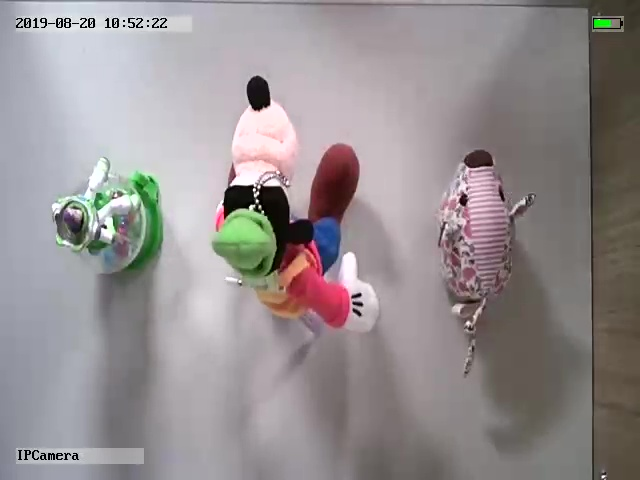buzz: (49, 156, 164, 277)
goofy: (211, 73, 380, 335)
pig: (435, 148, 535, 377)
